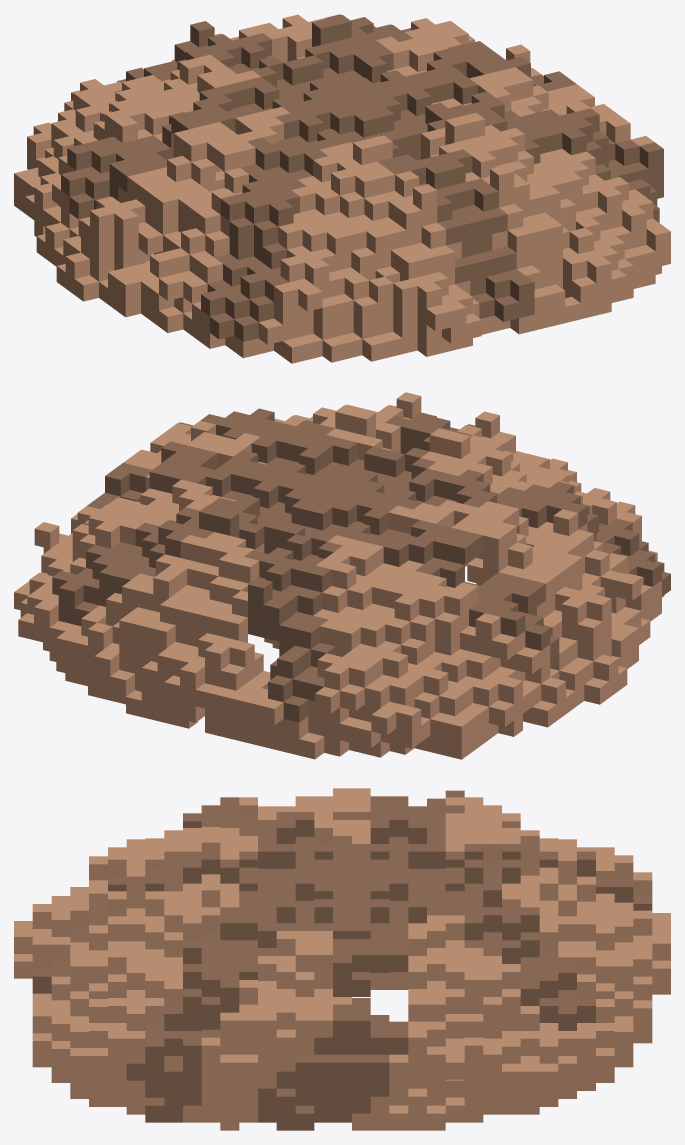
File: Medieval Assets-37-Swamp - Building Roof.obj
3 views of the same model, one above another, from view 1: azimuth 30°, elevation 25°; view 2: azimuth 150°, elevation 25°; view 3: azimuth 270°, elevation 25° (orthographic). The views are drawn at different scales.
Parts seen in each view (by area): view 1: Swamp - Building Roof; view 2: Swamp - Building Roof; view 3: Swamp - Building Roof.
Boxes of the visible parts, x1,y1,x2,y2 form: Swamp - Building Roof: (14, 14, 670, 363); Swamp - Building Roof: (14, 392, 670, 759); Swamp - Building Roof: (14, 788, 670, 1130).
Size of the model in its own units: 3.3 by 0.9 by 3.5.
Materials: 1 (1 with a texture image).
